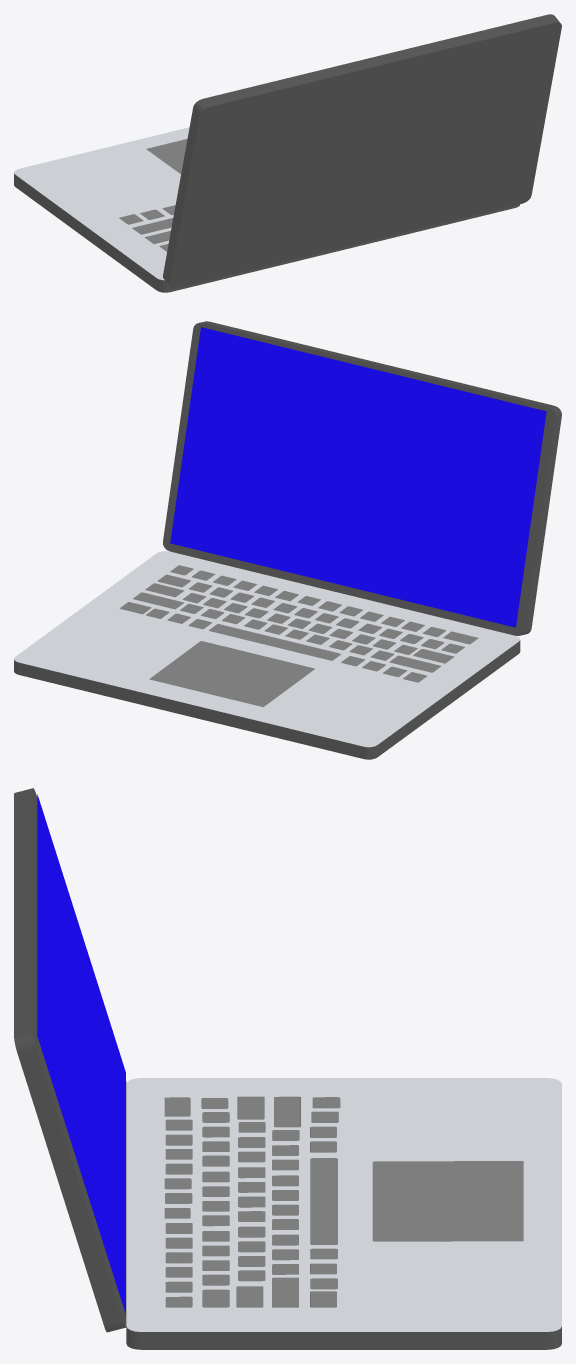
The model's file is laptop.glb.
The picture shows the model from 3 angles, top to bottom: view 1: azimuth 30°, elevation 25°; view 2: azimuth 150°, elevation 25°; view 3: azimuth 270°, elevation 25°; orthographic projection. The views are drawn at different scales.
Parts seen in each view (by area): view 1: Cube.002, Cube.001, Cube.003; view 2: Screen, Cube.001, Cube.003, Cube.002; view 3: Cube.001, Cube.003, Screen, Cube.002.
Boxes of the visible parts, bbox=[...] form: Cube.002: bbox=[163, 14, 561, 288]; Cube.001: bbox=[14, 127, 519, 292]; Cube.003: bbox=[119, 139, 187, 251]; Screen: bbox=[170, 327, 546, 627]; Cube.001: bbox=[14, 551, 520, 759]; Cube.003: bbox=[119, 565, 478, 707]; Cube.002: bbox=[163, 321, 561, 635]; Cube.001: bbox=[126, 1078, 561, 1349]; Cube.003: bbox=[164, 1096, 523, 1307]; Screen: bbox=[37, 794, 125, 1313]; Cube.002: bbox=[14, 788, 126, 1332].
Bounding box in the file's own units: 0.2 × 0.1146 × 0.1824.
4 materials, 1 textured.
